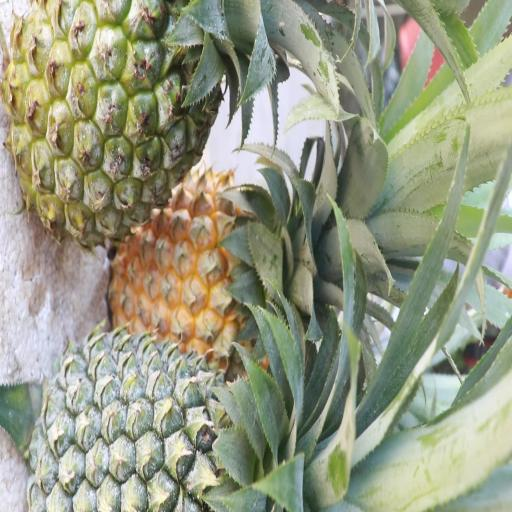------------------------------: (10, 0, 225, 241)
Pineapple - v8 v1: (116, 168, 309, 347)
